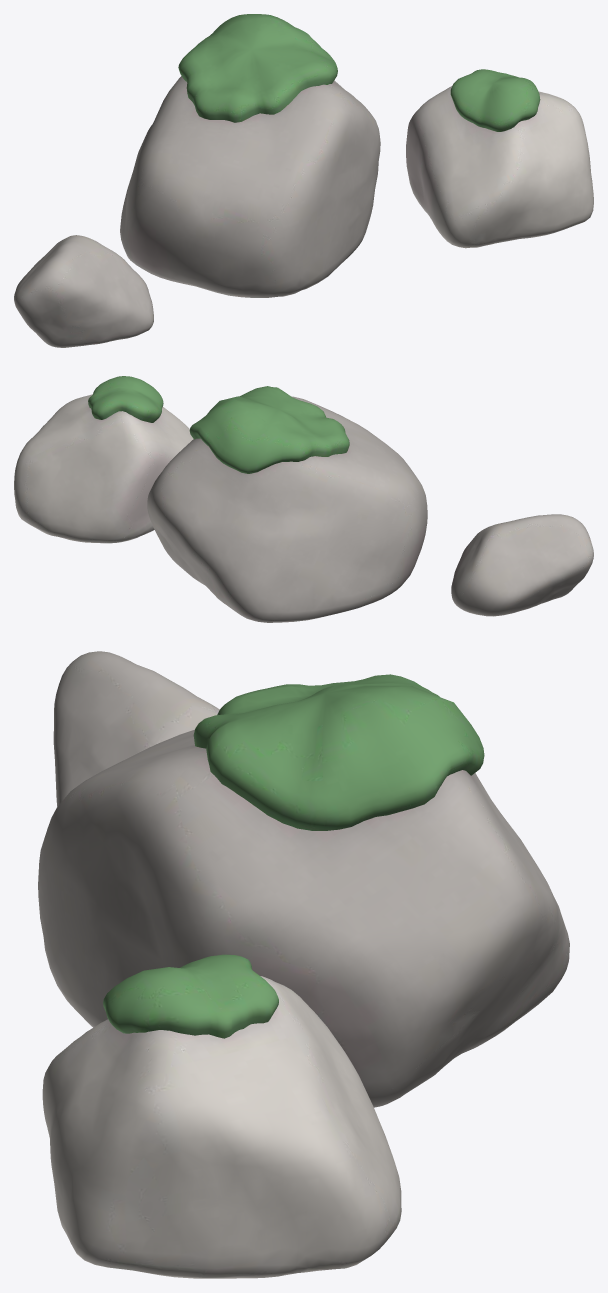
Rendered from rocas_grandes.glb.
3 renders of one model, top to bottom at view 1: azimuth 30°, elevation 25°; view 2: azimuth 150°, elevation 25°; view 3: azimuth 270°, elevation 25°, orthographic. The views are drawn at different scales.
Visible parts, largest first — view 1: boulder-rock-set_body; view 2: boulder-rock-set_body; view 3: boulder-rock-set_body.
Boxes of the visible parts, x1=… form: boulder-rock-set_body: x1=14, y1=14, x2=593, y2=347; boulder-rock-set_body: x1=14, y1=376, x2=593, y2=622; boulder-rock-set_body: x1=38, y1=651, x2=569, y2=1278.
Size of the model in its own units: 3.42 by 1.14 by 1.5.
Materials: 1 (1 with a texture image).
